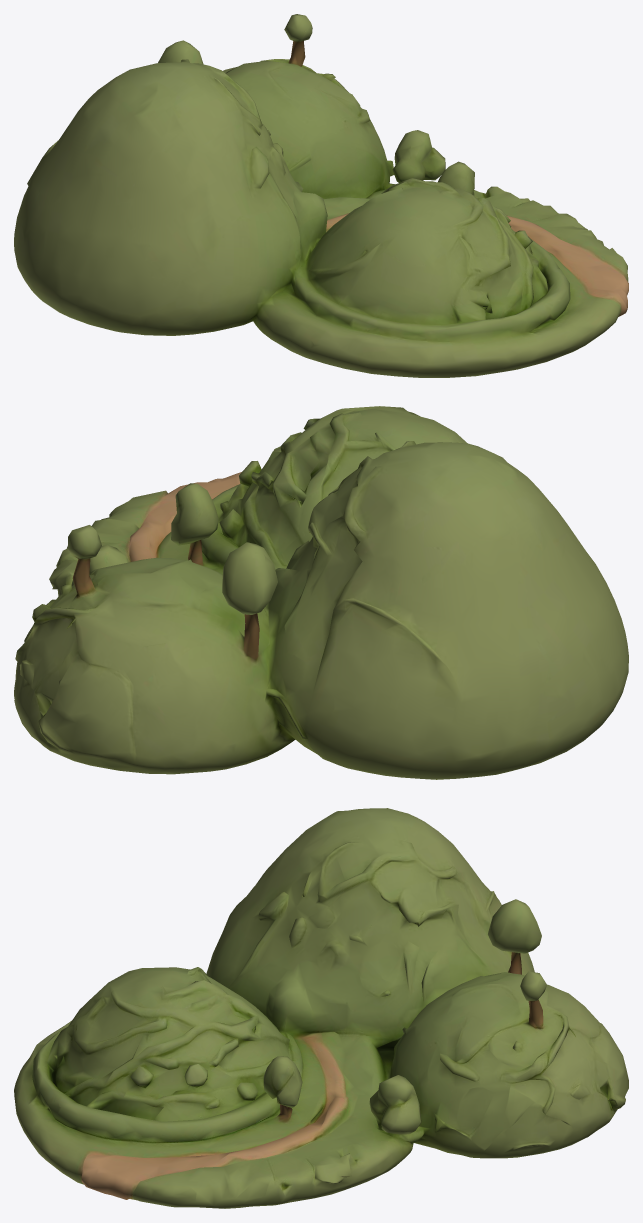
The model's file is map_hills.glb.
3 renders of one model, top to bottom at view 1: azimuth 30°, elevation 25°; view 2: azimuth 150°, elevation 25°; view 3: azimuth 270°, elevation 25°, orthographic. The views are drawn at different scales.
Parts seen in each view (by area): view 1: tripo_node_b3a832d8-638b-41e7-9610-1b271cd3f2a2; view 2: tripo_node_b3a832d8-638b-41e7-9610-1b271cd3f2a2; view 3: tripo_node_b3a832d8-638b-41e7-9610-1b271cd3f2a2.
Boxes of the visible parts, <box> form: tripo_node_b3a832d8-638b-41e7-9610-1b271cd3f2a2: <box>14,14,628,377</box>; tripo_node_b3a832d8-638b-41e7-9610-1b271cd3f2a2: <box>14,406,628,779</box>; tripo_node_b3a832d8-638b-41e7-9610-1b271cd3f2a2: <box>14,808,628,1208</box>.
Bounding box in the file's own units: 0.9222 × 0.4008 × 1.
1 material, 1 textured.
